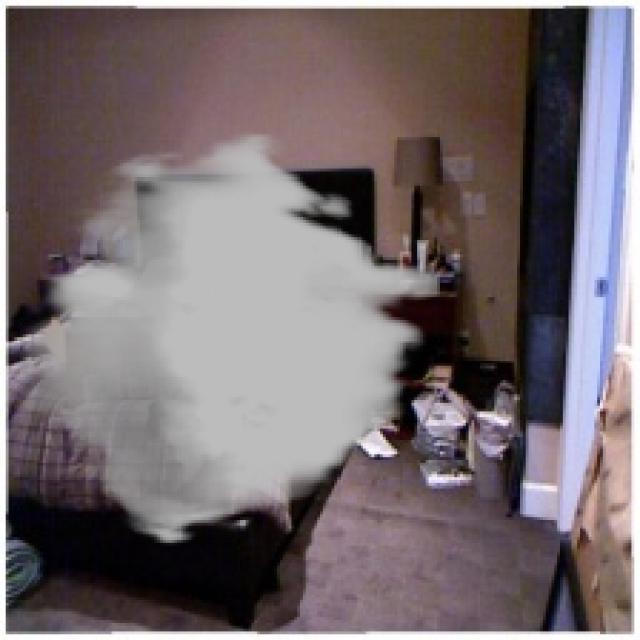Smoke: (20, 131, 440, 546)
